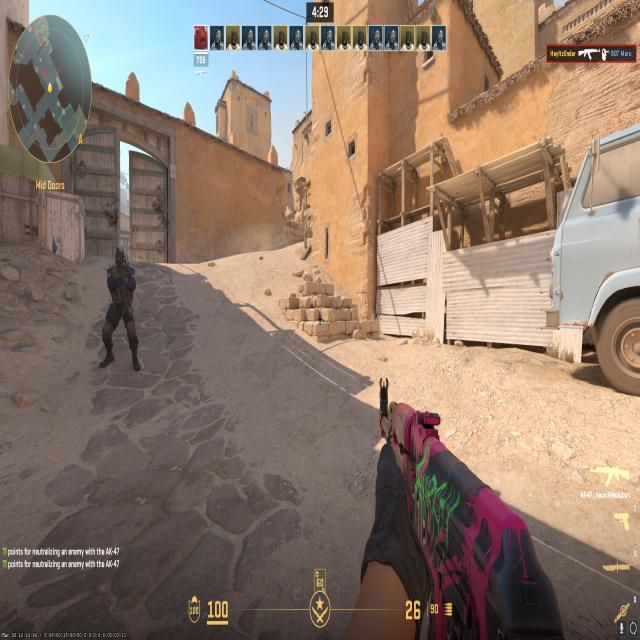ct: (93, 236, 150, 383)
